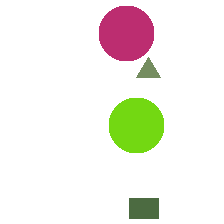circle: (99, 6, 153, 60), (109, 98, 163, 152)
rectangle: (129, 198, 158, 218)
triangle: (136, 57, 160, 77)
